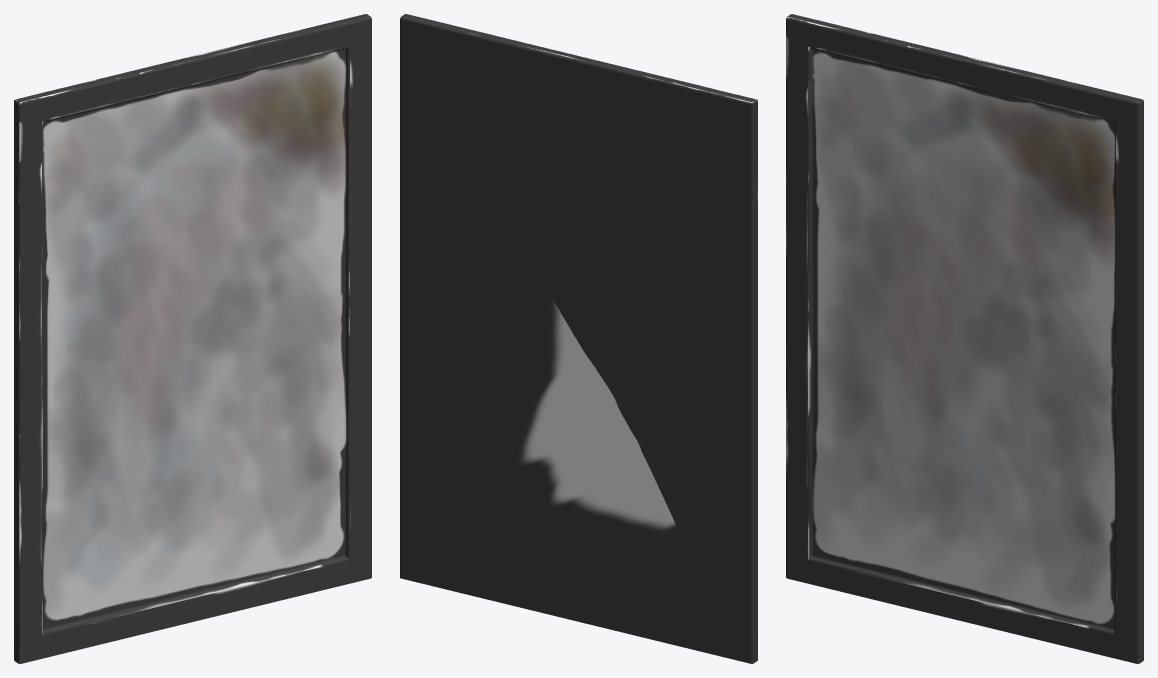
The model's file is Mirror_Asset.fbx.
3 views of the same model, side by side, from view 1: azimuth 30°, elevation 25°; view 2: azimuth 150°, elevation 25°; view 3: azimuth 330°, elevation 25° (orthographic).
Parts seen in each view (by area): view 1: Mirror_Asset; view 2: Mirror_Asset; view 3: Mirror_Asset.
Boxes of the visible parts, left/top/right/bottom form: Mirror_Asset: left=14, top=14, right=371, bottom=663; Mirror_Asset: left=400, top=14, right=757, bottom=663; Mirror_Asset: left=786, top=14, right=1143, bottom=663.
Bounding box in the file's own units: 132 × 200 × 3.79.
